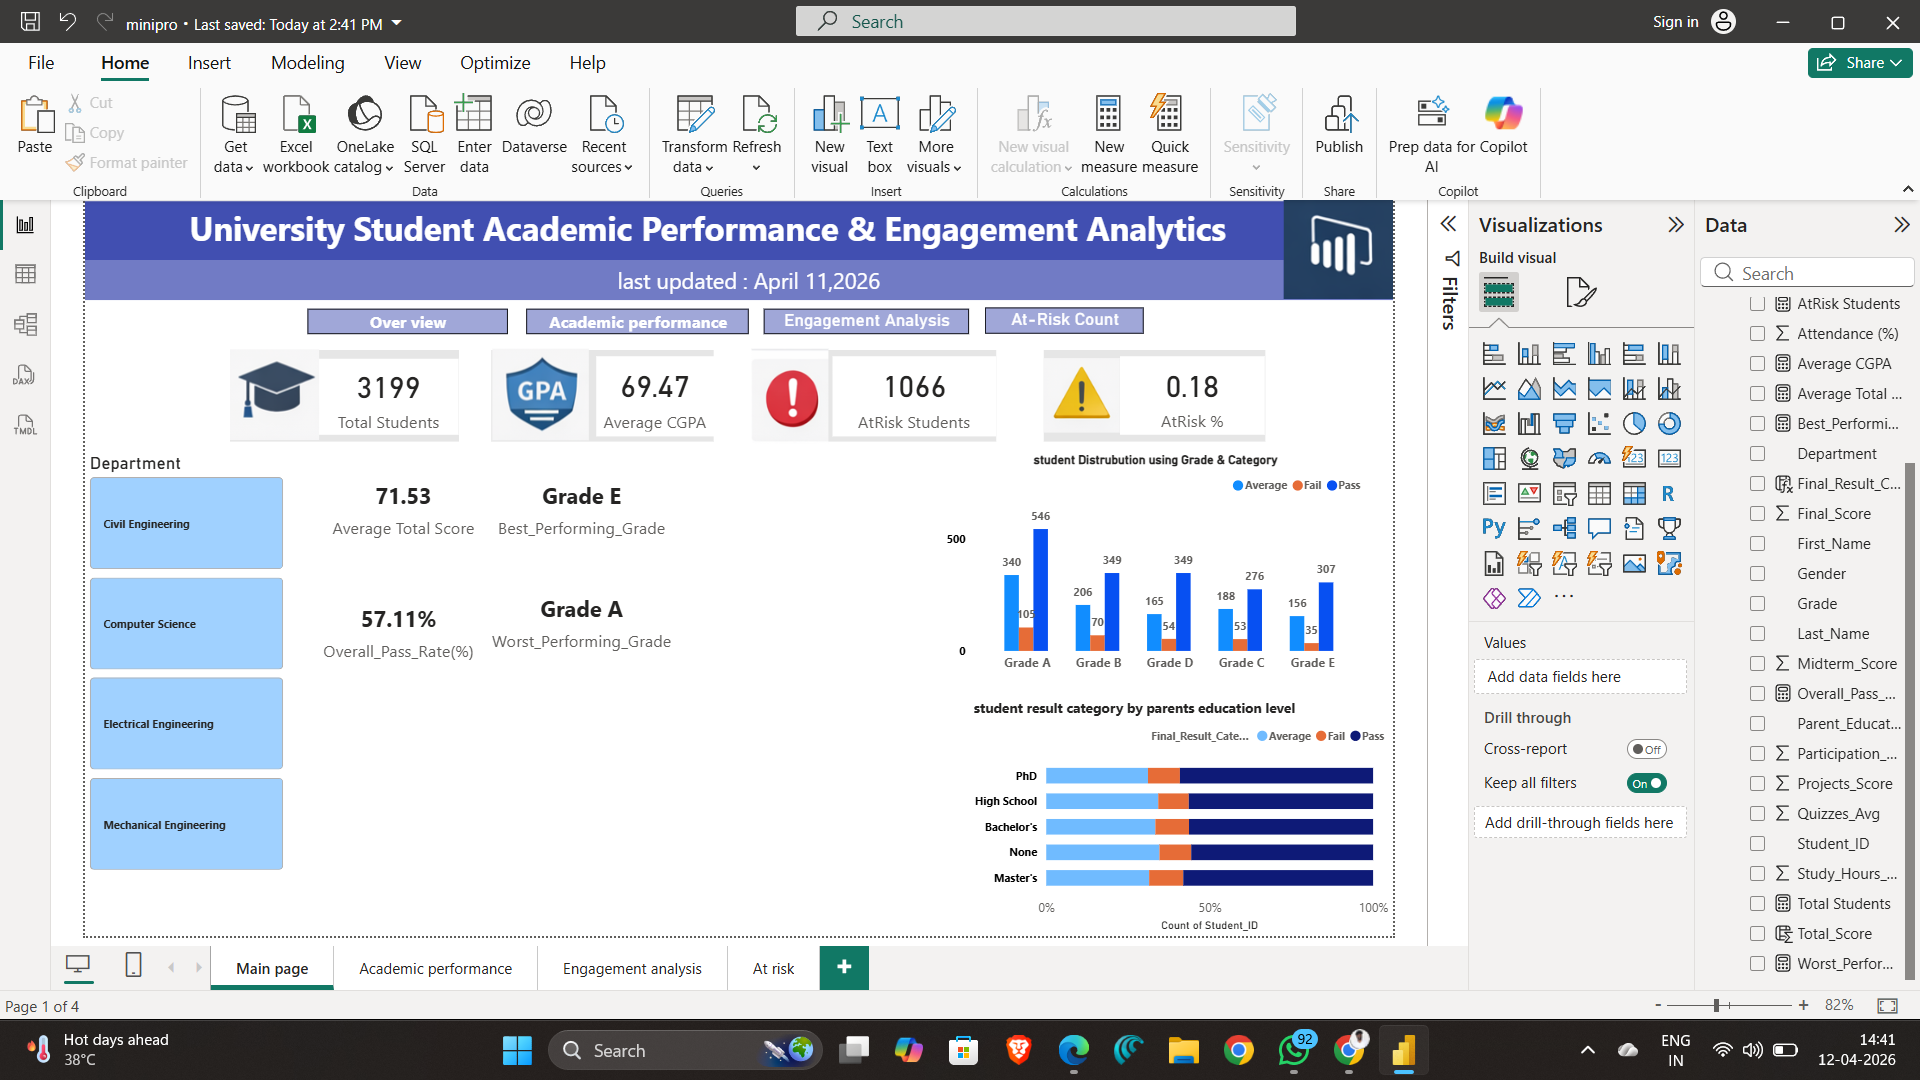

The page's visual inventory and layout, read from the dashboard file:
{"tool":"powerbi","page":{"name":"Main page","canvas":[1280,720],"ordinal":0},"visuals":[{"type":"textbox","box":[0,1.2,1280.3,57.5],"z":0},{"type":"textbox","box":[0,58.7,1280.3,37.9],"z":1000},{"type":"image","box":[1172.7,0,107.6,96.6],"z":2000},{"type":"pageNavigator","title":"Over view","box":[281.3,106.4,132.1,24.5],"z":3000},{"type":"pageNavigator","title":"Academic performance","box":[431.7,106.4,217.7,24.5],"z":4000},{"type":"pageNavigator","title":"Engagement Analysis","box":[664,106.4,200.5,24.5],"z":5000},{"type":"pageNavigator","title":"At-Risk Count","box":[880.4,105.2,155.3,25.7],"z":6000},{"type":"card","fields":{"Values":["StudentData.Total Students"]},"box":[238.5,152.9,141.8,77],"z":7000},{"type":"card","fields":{"Values":["StudentData.Average CGPA"]},"box":[508.7,146.7,112.5,83.2],"z":8000},{"type":"card","fields":{"Values":["StudentData.AtRisk Students"]},"box":[731.3,146.7,133.3,77],"z":9000},{"type":"card","fields":{"Values":["StudentData.AtRisk %"]},"box":[1012.5,152.9,141.8,77],"z":10000},{"type":"image","box":[168.8,145.5,69.7,85.6],"z":11000},{"type":"image","box":[418.2,145.5,90.5,83.2],"z":12000},{"type":"image","box":[634.7,138.2,129.6,92.9],"z":13000},{"type":"image","box":[937.9,146.7,74.6,89.3],"z":14000},{"type":"card","fields":{"Values":["StudentData.Average Total Score"]},"box":[261.7,248.2,171.2,108.8],"z":15000},{"type":"card","fields":{"Values":["StudentData.Best_Performing_Grade"]},"box":[452.4,248.2,196.9,111.3],"z":16000},{"type":"card","fields":{"Values":["StudentData.Worst_Performing_Grade"]},"box":[457.3,376.6,192,97.8],"z":17000},{"type":"card","fields":{"Values":["StudentData.Overall Pass Rate %"]},"box":[264.1,376.6,168.8,97.8],"z":18000},{"type":"clusteredColumnChart","title":"student  Distrubution using Grade & Category","fields":{"Category":["StudentData.Grade"],"Y":["CountNonNull(StudentData.Student_ID)"],"Series":["StudentData.Final_Result_Category"]},"box":[699.5,265.4,540.5,223.8],"z":19000},{"type":"hundredPercentStackedBarChart","title":"student result category by parents education level","fields":{"Category":["StudentData.Parent_Education_Level"],"Y":["CountNonNull(StudentData.Student_ID)"],"Series":["StudentData.Final_Result_Category"]},"box":[204.2,501.4,1076.1,218.9],"z":20000},{"type":"advancedSlicerVisual","fields":{"Values":["StudentData.Department"]},"box":[0,247,199.3,417],"z":21000}]}

Visuals, with their boxes on the page's 1280x720 design canvas (x1, y1, x2, y2). These are canvas units, not pixel positions in the 1920x1080 screenshot, which may show the page scaled, cropped or inside an application window:
textbox: <box>0,1,1280,59</box>
textbox: <box>0,59,1280,97</box>
image: <box>1173,0,1280,97</box>
"Over view" pageNavigator: <box>281,106,413,131</box>
"Academic performance" pageNavigator: <box>432,106,649,131</box>
"Engagement Analysis" pageNavigator: <box>664,106,864,131</box>
"At-Risk Count" pageNavigator: <box>880,105,1036,131</box>
card - StudentData.Total Students: <box>238,153,380,230</box>
card - StudentData.Average CGPA: <box>509,147,621,230</box>
card - StudentData.AtRisk Students: <box>731,147,865,224</box>
card - StudentData.AtRisk %: <box>1012,153,1154,230</box>
image: <box>169,146,238,231</box>
image: <box>418,146,509,229</box>
image: <box>635,138,764,231</box>
image: <box>938,147,1012,236</box>
card - StudentData.Average Total Score: <box>262,248,433,357</box>
card - StudentData.Best_Performing_Grade: <box>452,248,649,360</box>
card - StudentData.Worst_Performing_Grade: <box>457,377,649,474</box>
card - StudentData.Overall Pass Rate %: <box>264,377,433,474</box>
"student  Distrubution using Grade & Category" clusteredColumnChart: <box>700,265,1240,489</box>
"student result category by parents education level" hundredPercentStackedBarChart: <box>204,501,1280,720</box>
advancedSlicerVisual - StudentData.Department: <box>0,247,199,664</box>
